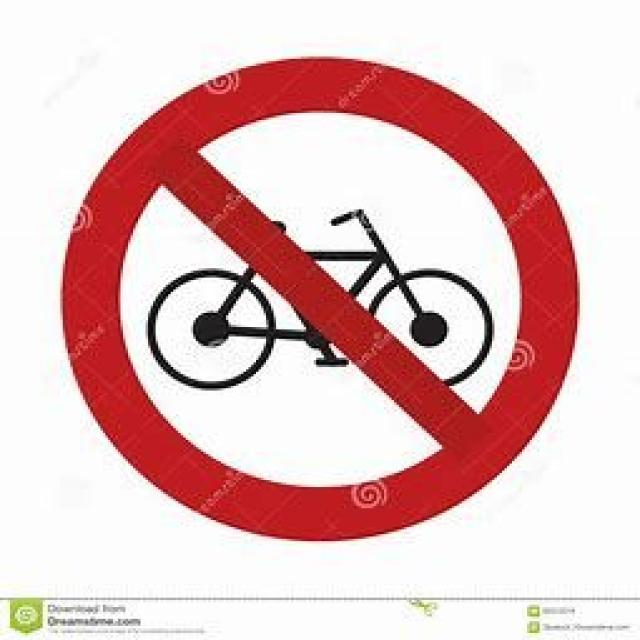cycle_prohibited: (60, 52, 577, 539)
